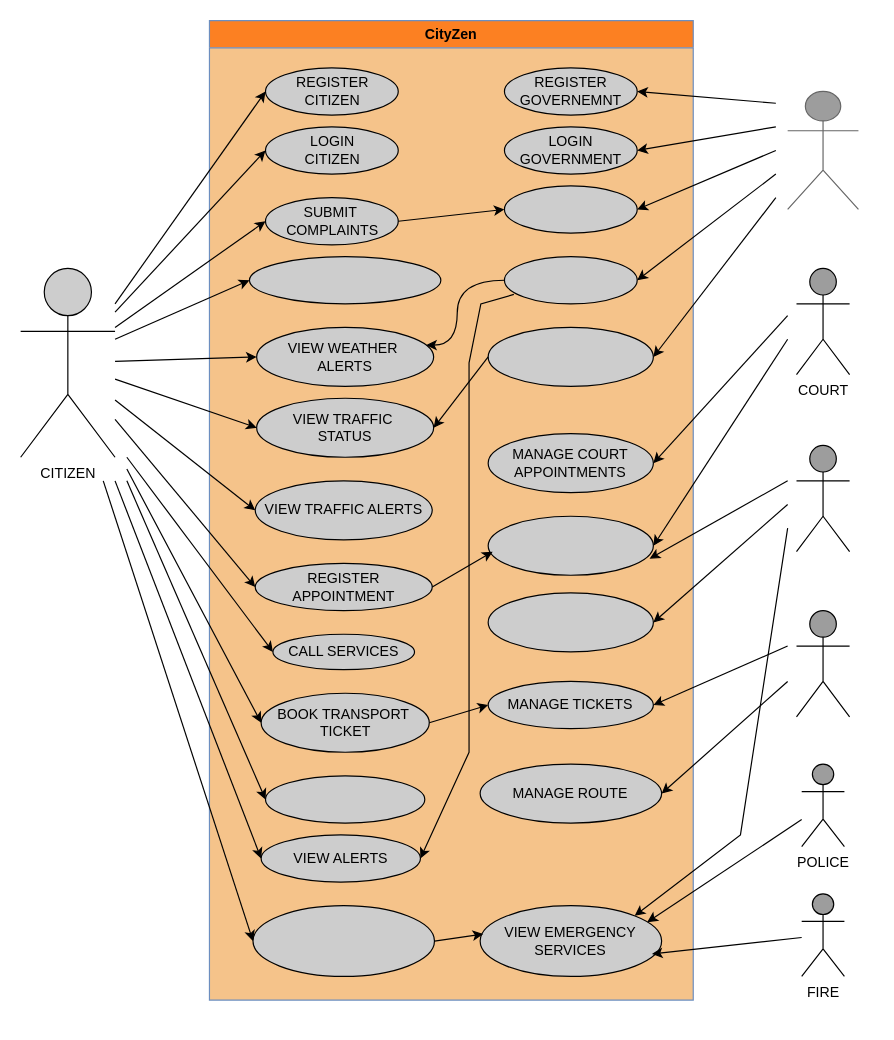
Image size: 894x1040. Some labels were removed from this diagram. Here are the shapes that lost their labels. From the top down, the centre of each, then its label:
At (x=822, y=149): "GOVERNMENT".
At (x=570, y=209): "VIEW COMPLAINTS".
At (x=344, y=279): "TRACK COMPLAINT STATUS".
At (x=570, y=279): "PUBLISH ALERTS".
At (x=570, y=356): "PUBLISH TRAFFIC UPDATES".
At (x=822, y=498): "HOSPITAL".
At (x=570, y=545): "VIEW APPOINTMENTS".
At (x=570, y=622): "MANAGE HOSPITAL APPOITNMENT".
At (x=822, y=663): "TRANSPORT".
At (x=344, y=799): "LOCATE FACILITIES".
At (x=343, y=940): "PUBLISH EMERGENCY SERVICES".
